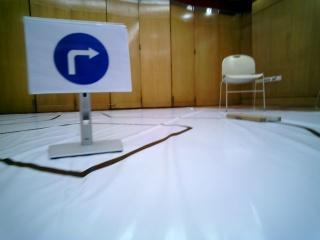right: (37, 22, 124, 93)
